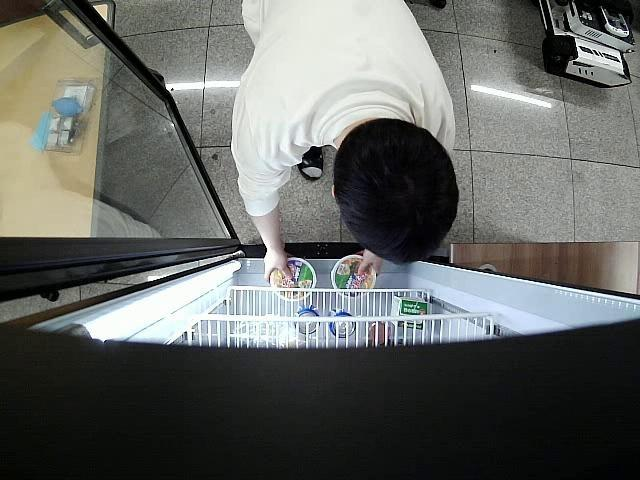09_yukGaeJang: (268, 256, 316, 302), (332, 256, 376, 299)
